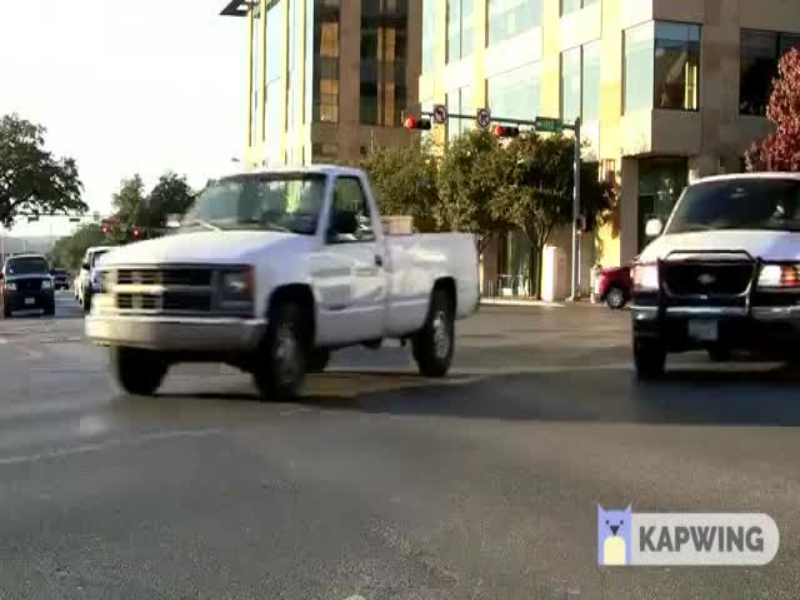car: (83, 163, 489, 373), (608, 174, 800, 391), (1, 252, 61, 324)
